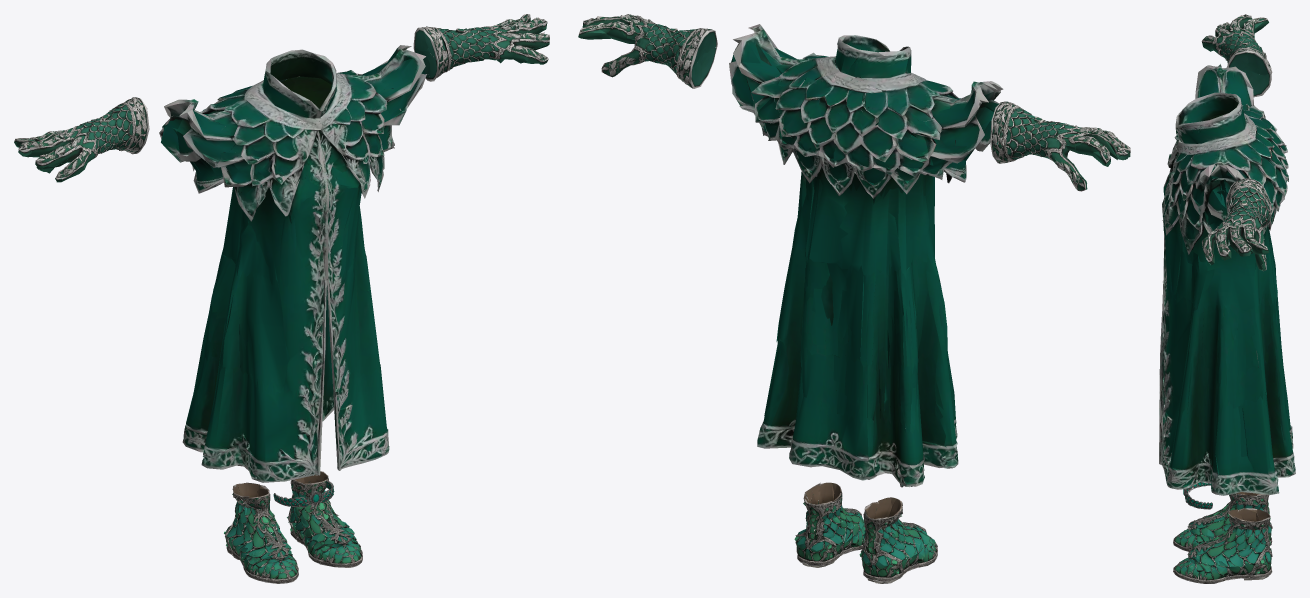
Rendered from ai_mage_emerald.glb.
The picture shows the model from 3 angles, left to right: view 1: azimuth 30°, elevation 25°; view 2: azimuth 150°, elevation 25°; view 3: azimuth 270°, elevation 25°; orthographic projection. The views are drawn at different scales.
Visible parts, largest first — view 1: robe, gloves, feet, circlet; view 2: robe, gloves, feet; view 3: robe, feet, gloves, circlet.
Boxes of the visible parts, bbox=[...] form: robe: bbox=[159, 45, 426, 482]; gloves: bbox=[14, 14, 549, 182]; feet: bbox=[224, 471, 362, 583]; circlet: bbox=[273, 480, 334, 507]; robe: bbox=[729, 24, 1003, 487]; gloves: bbox=[578, 14, 1130, 191]; feet: bbox=[794, 482, 937, 583]; robe: bbox=[1159, 64, 1295, 495]; feet: bbox=[1173, 492, 1272, 583]; gloves: bbox=[1201, 14, 1272, 271]; circlet: bbox=[1183, 482, 1212, 509].
Bounding box in the file's own units: 1.8 × 1.63 × 0.4392.
4 materials, 4 textured.
